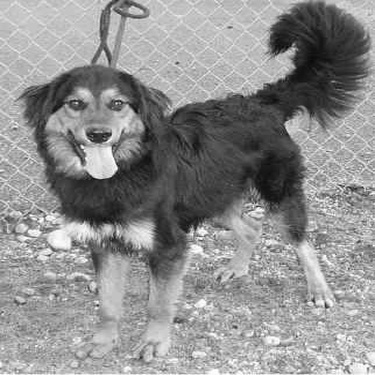dog: (19, 1, 368, 369)
